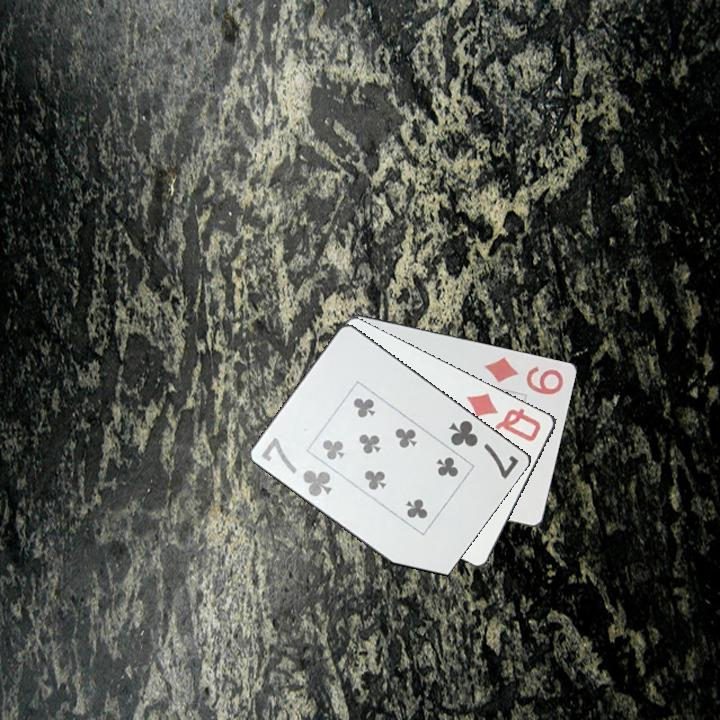7c: (258, 434, 336, 500), (445, 416, 522, 482)
9d: (480, 352, 567, 398)
Qd: (464, 390, 544, 444)
